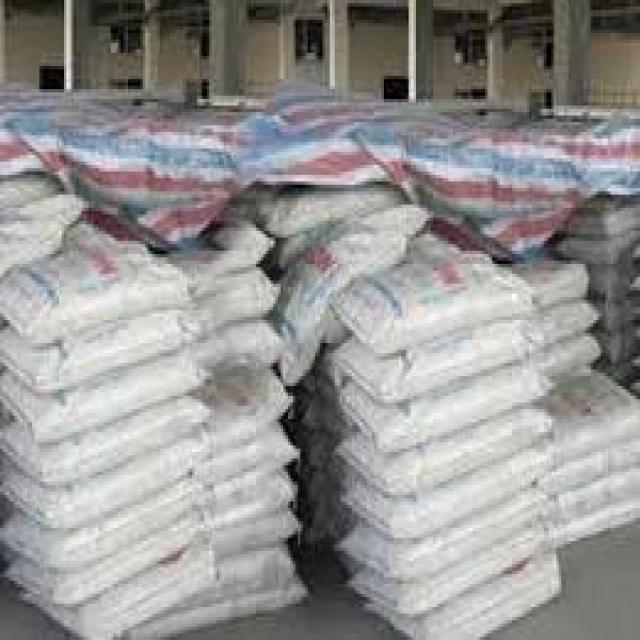cement_bag: (282, 198, 426, 377), (334, 403, 548, 502), (341, 444, 545, 543), (342, 490, 540, 589), (3, 439, 201, 535), (1, 398, 203, 490), (0, 354, 196, 444), (5, 516, 193, 609), (343, 368, 535, 457), (334, 316, 523, 406), (9, 234, 176, 335), (347, 250, 516, 346), (0, 313, 183, 394), (425, 550, 564, 640), (97, 542, 218, 640), (214, 420, 299, 507), (193, 267, 284, 347), (553, 438, 640, 504), (553, 405, 640, 465), (210, 509, 299, 564), (540, 302, 596, 354), (539, 262, 586, 318)
